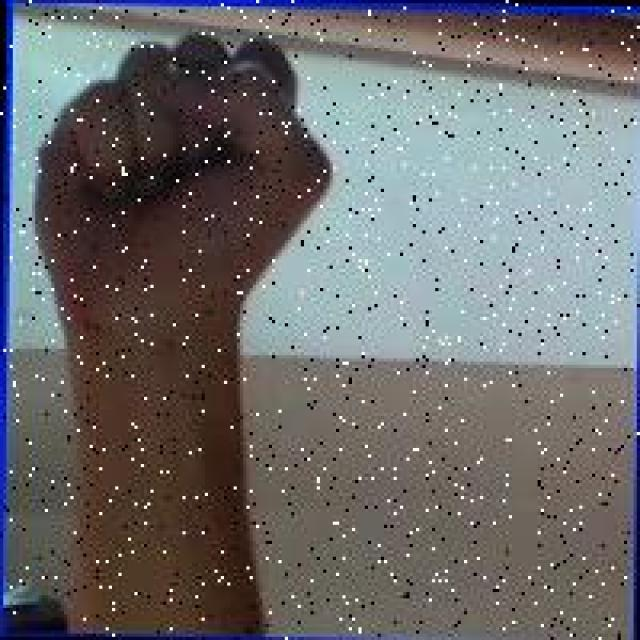S: (26, 19, 336, 349)
